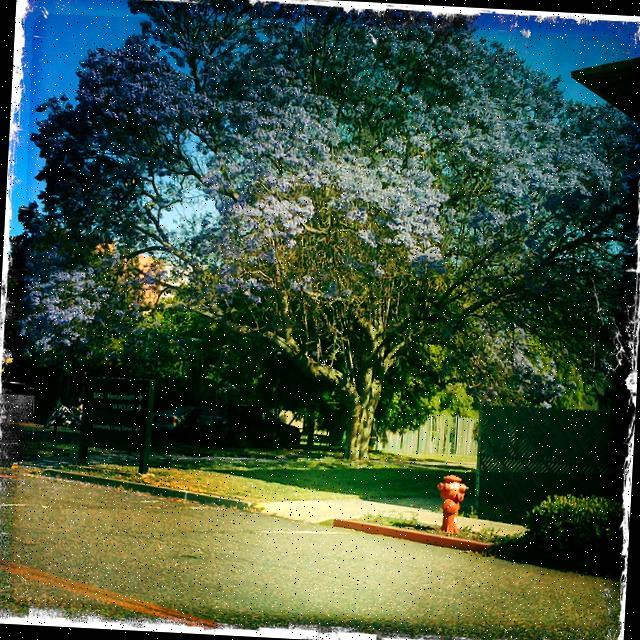fire_hydrant: (435, 473, 470, 535)
